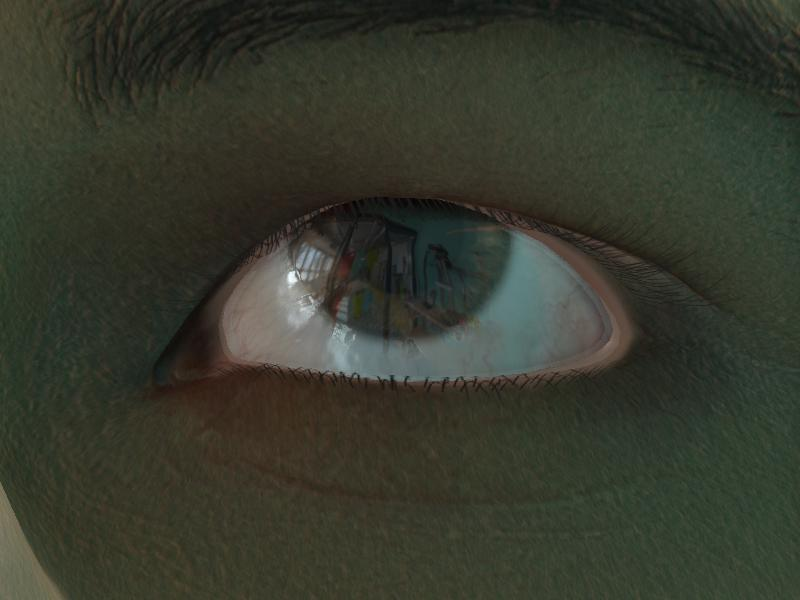eye: (285, 195, 511, 343)
